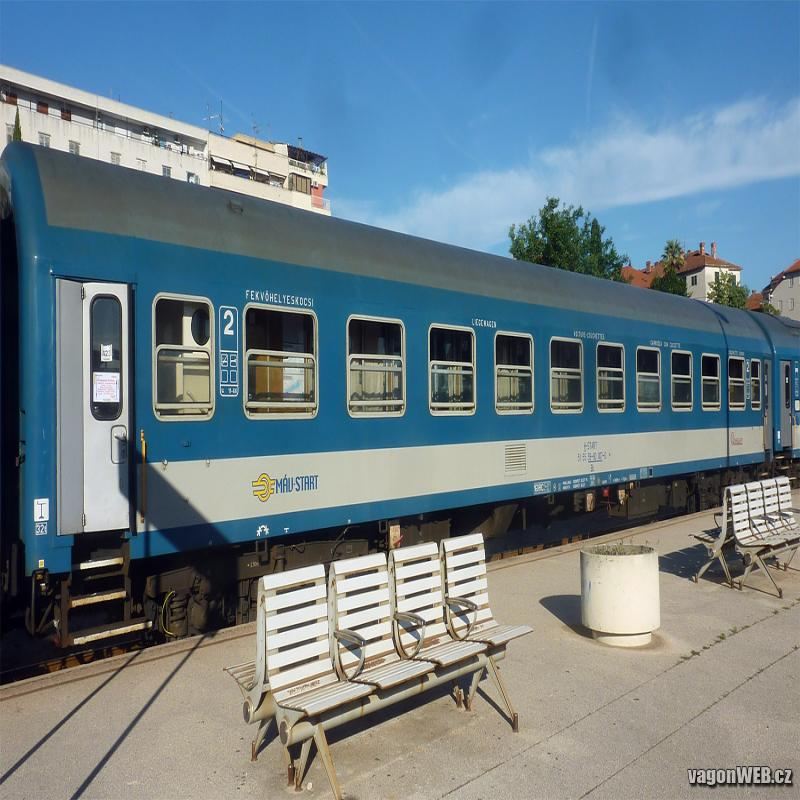train: (1, 143, 776, 675)
